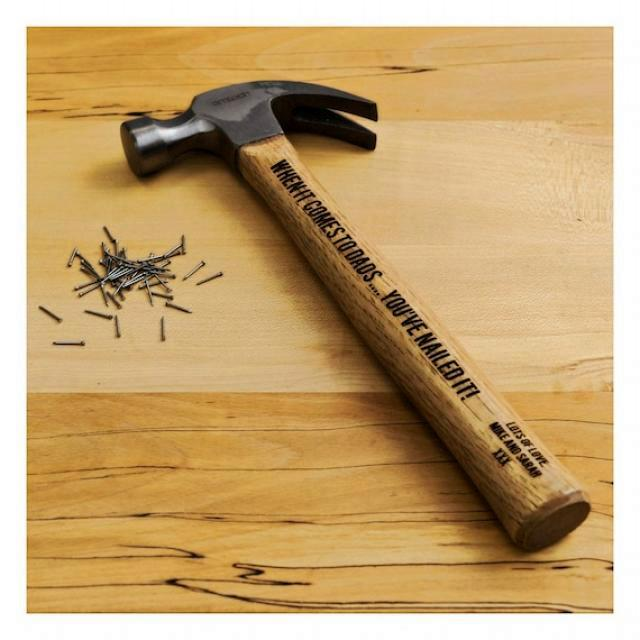hammer: (114, 76, 596, 560)
